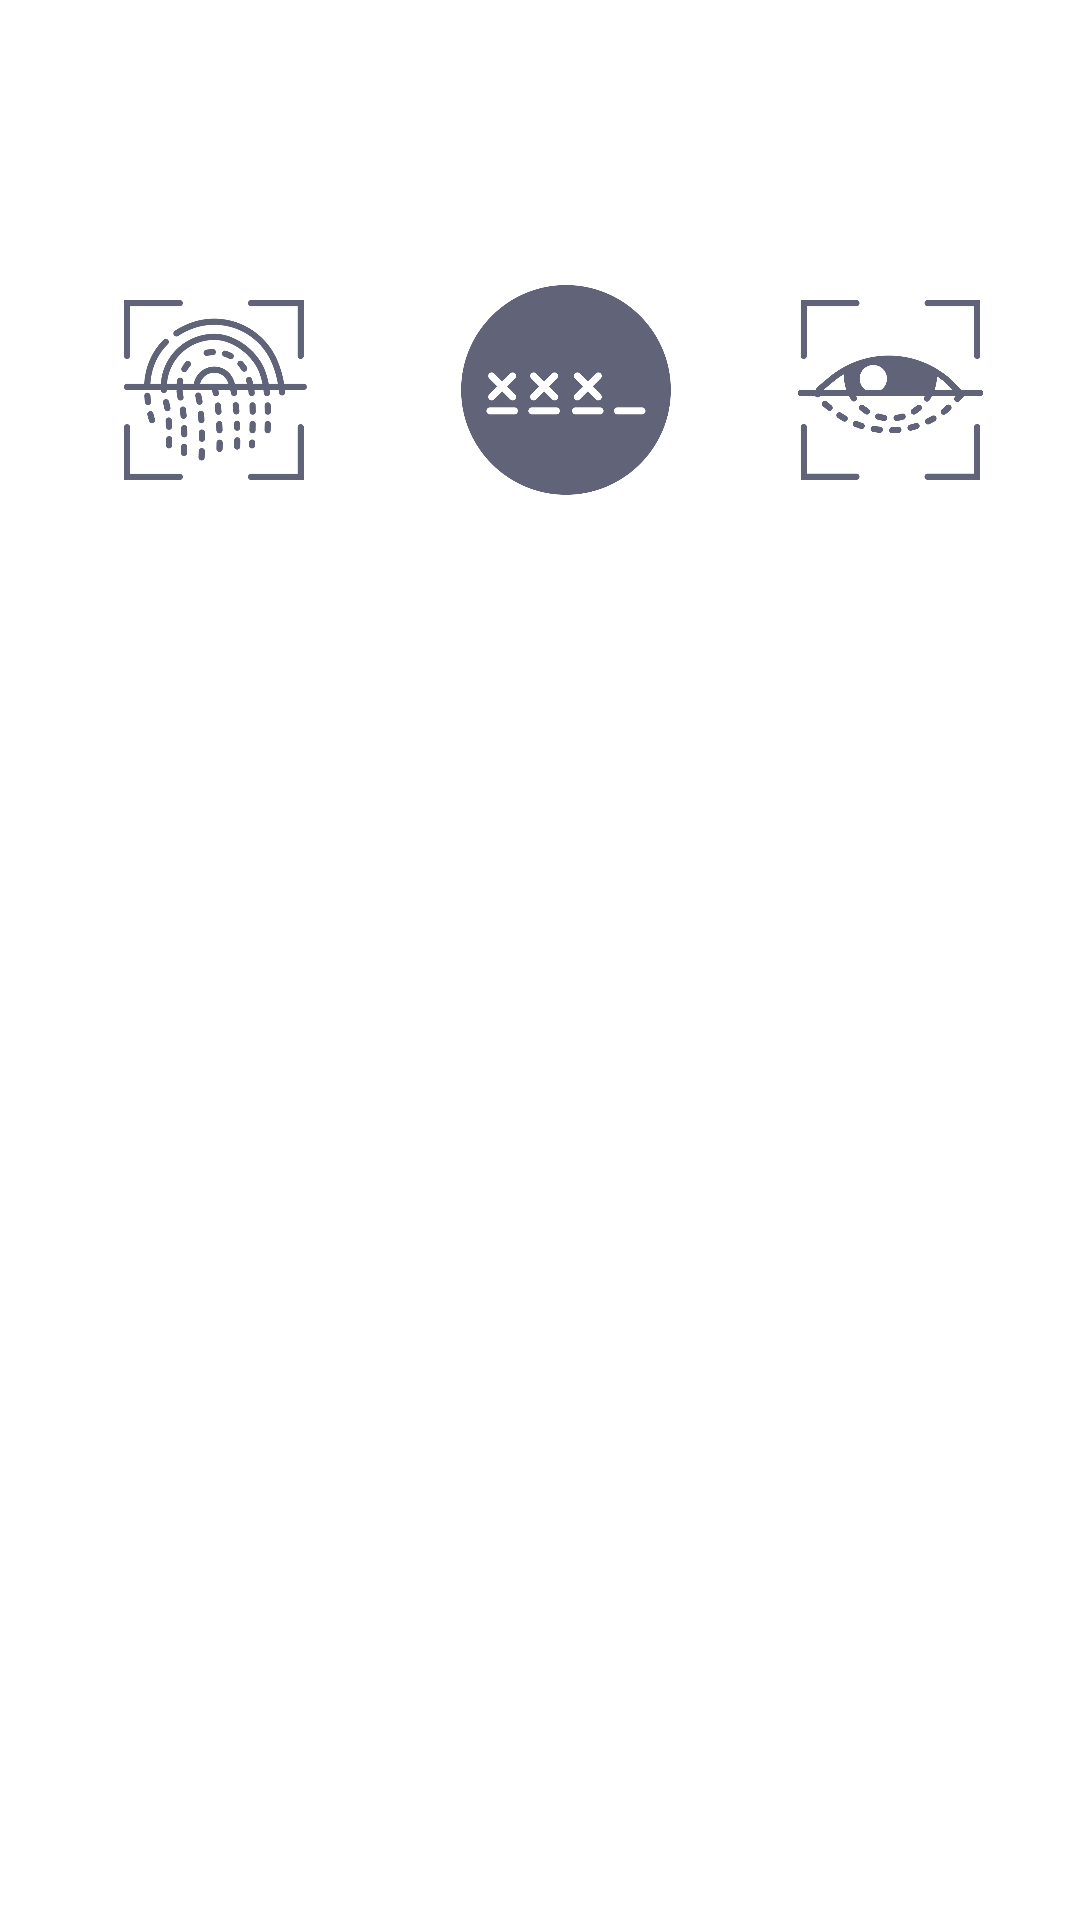

Screen size 1080*1920. Icon name, then its center in pixels as [x,y]:
fingerprint: [215,390]
passwordinput: [566,390]
retina: [890,390]
